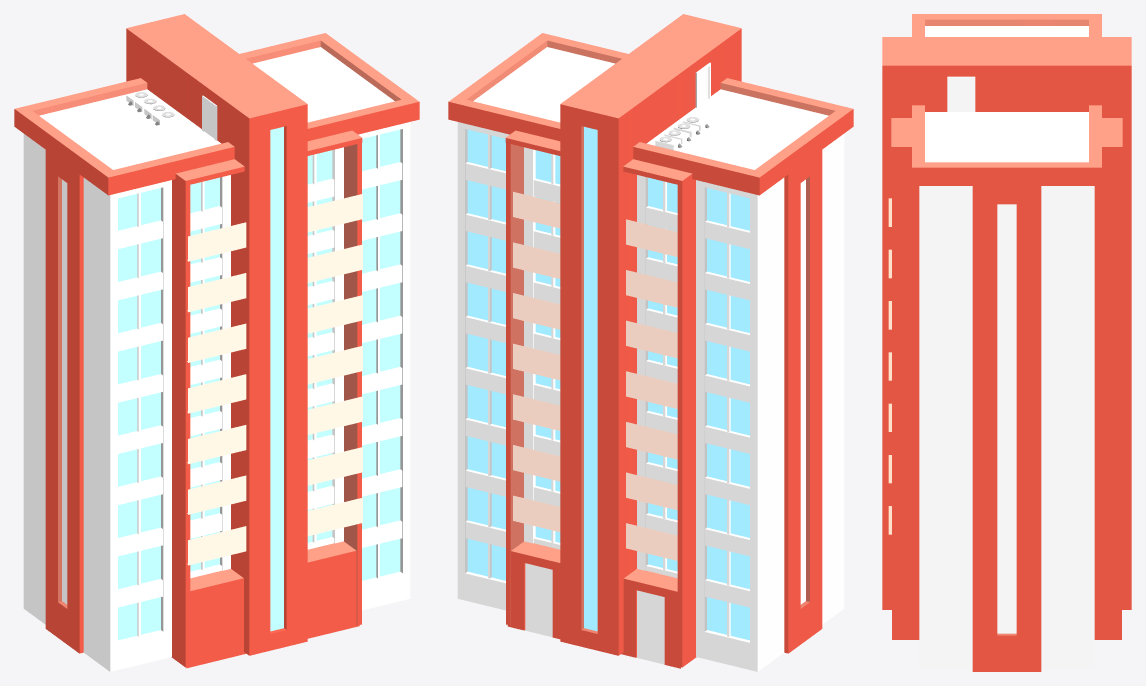
File: tile_for_home_2x2.002 (3).glb
The picture shows the model from 3 angles, left to right: view 1: azimuth 30°, elevation 25°; view 2: azimuth 150°, elevation 25°; view 3: azimuth 270°, elevation 25°; orthographic projection.
Visible parts, largest first — view 1: apartment 1.006; view 2: apartment 1.006; view 3: apartment 1.006.
Part boxes in pixels (x1,y1,x2,y2): apartment 1.006: (14,14,419,671); apartment 1.006: (448,14,853,671); apartment 1.006: (882,14,1131,671).
Size of the model in its own units: 13.9 by 23.1 by 9.54.
1 material, 1 textured.
